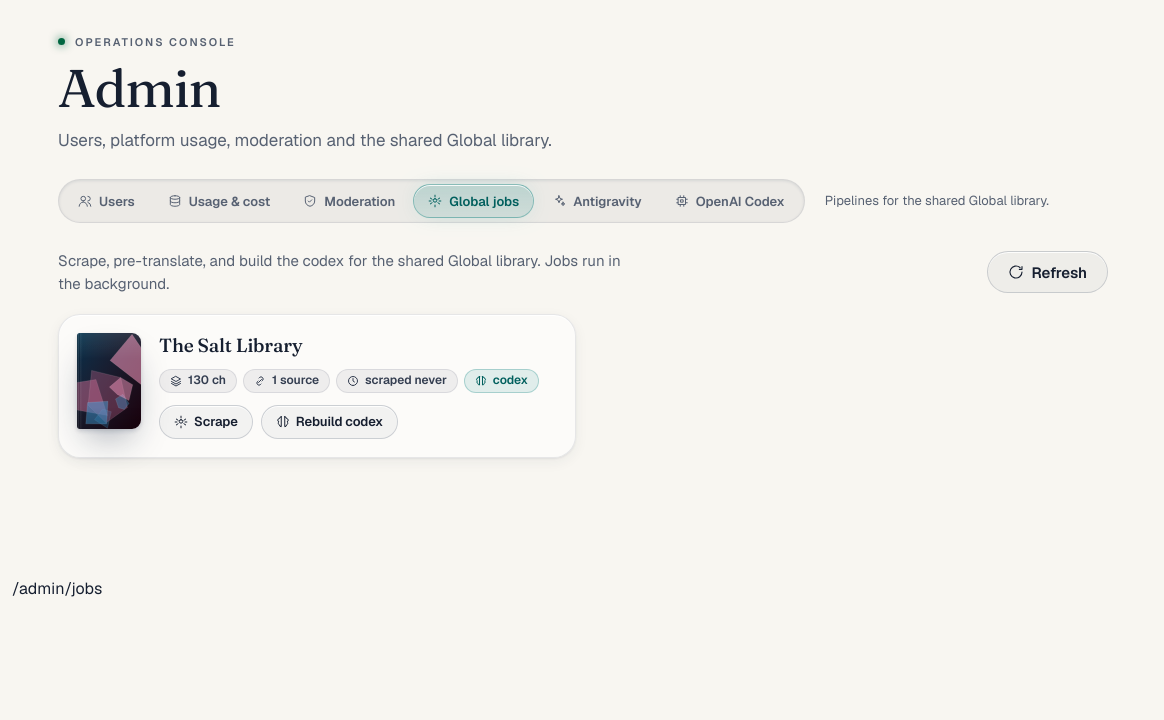
Admin console › runs a global job and reports inline
Click the button "Scrape" at (206, 422), box [159,405,253,439]
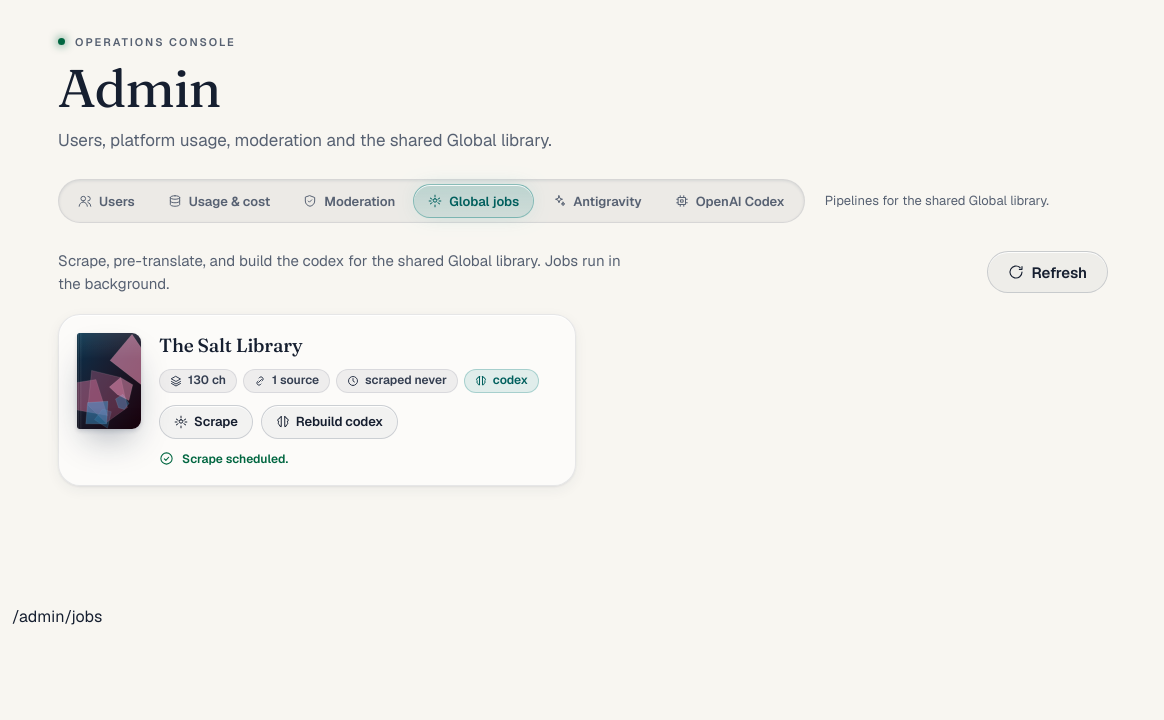
Expected: the button "Rebuild codex" is shown, [261,405,398,439]
Expected: the text "Scrape scheduled." is shown, [159,451,288,467]
